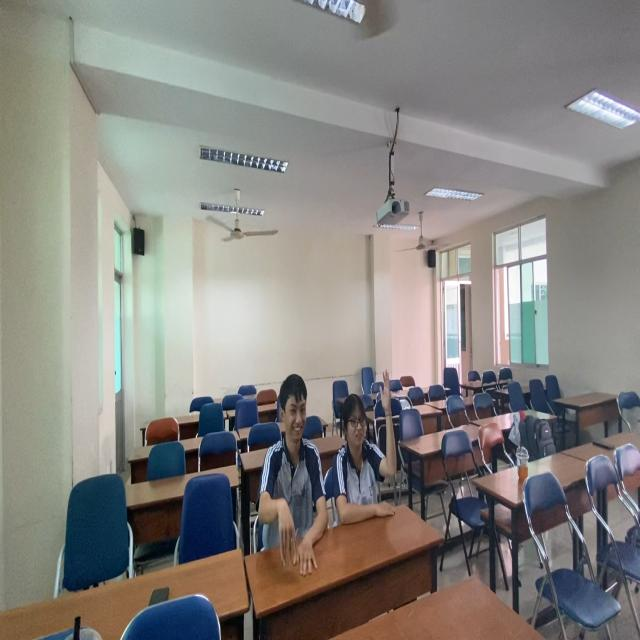raise_hand: (337, 368, 402, 522)
